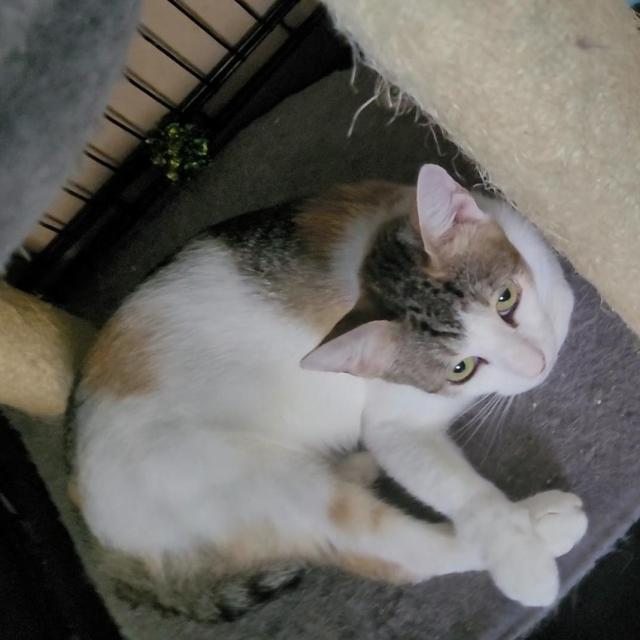calico_cat: (285, 160, 579, 426)
